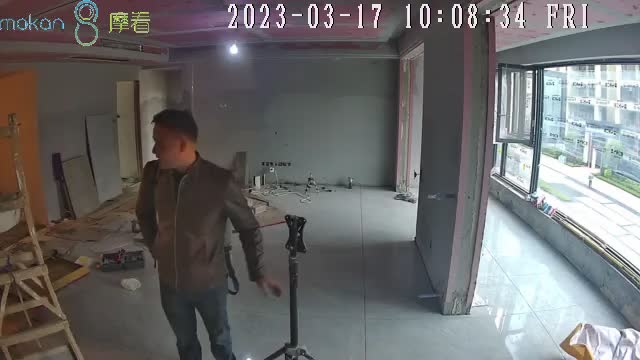people: (135, 110, 279, 360)
window: (493, 61, 640, 276)
